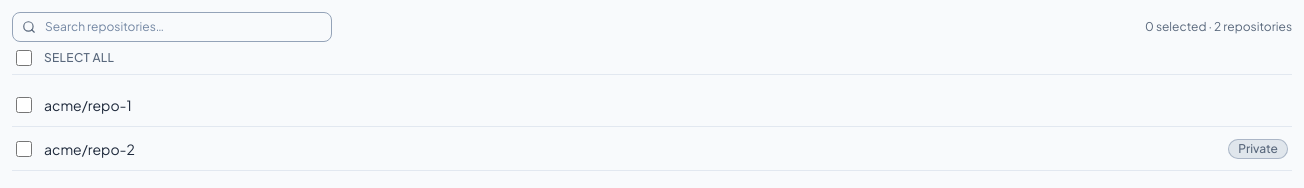
Test case: RepositoryPickerList › select-all clicked again deselects everything it selected
This screenshot has width=1304, height=188.
What coordinates should you click on to do the following:
click the checkbox named "Select all repositories"
I would click on:
 (24, 58)
Its box is left=16, top=50, right=32, bottom=66.
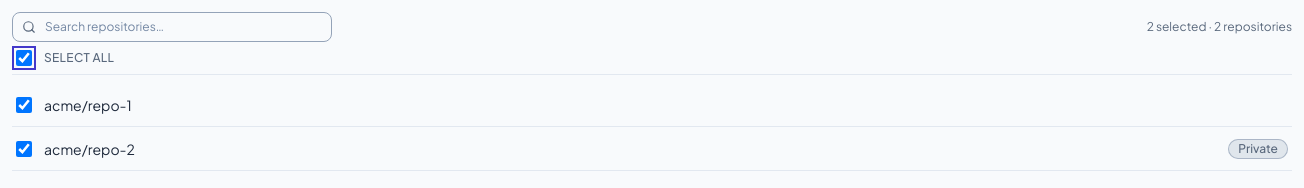
What coordinates should you click on to do the following:
click the checkbox named "Select all repositories"
I would click on:
 (24, 58)
Its box is left=16, top=50, right=32, bottom=66.
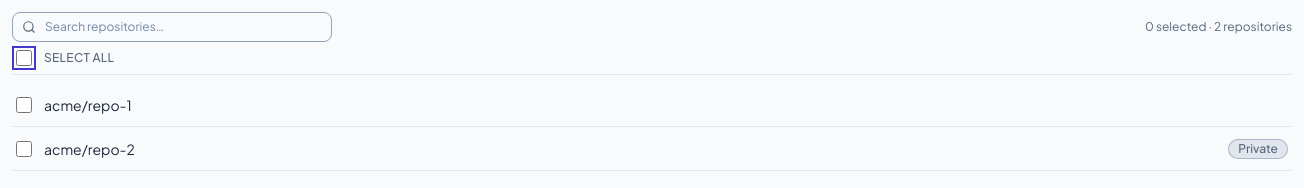
Expected: the checkbox labelled "acme/repo-1" is not checked, left=16, top=96, right=32, bottom=112
Expected: the checkbox labelled "acme/repo-2 Private" is not checked, left=16, top=140, right=32, bottom=156
